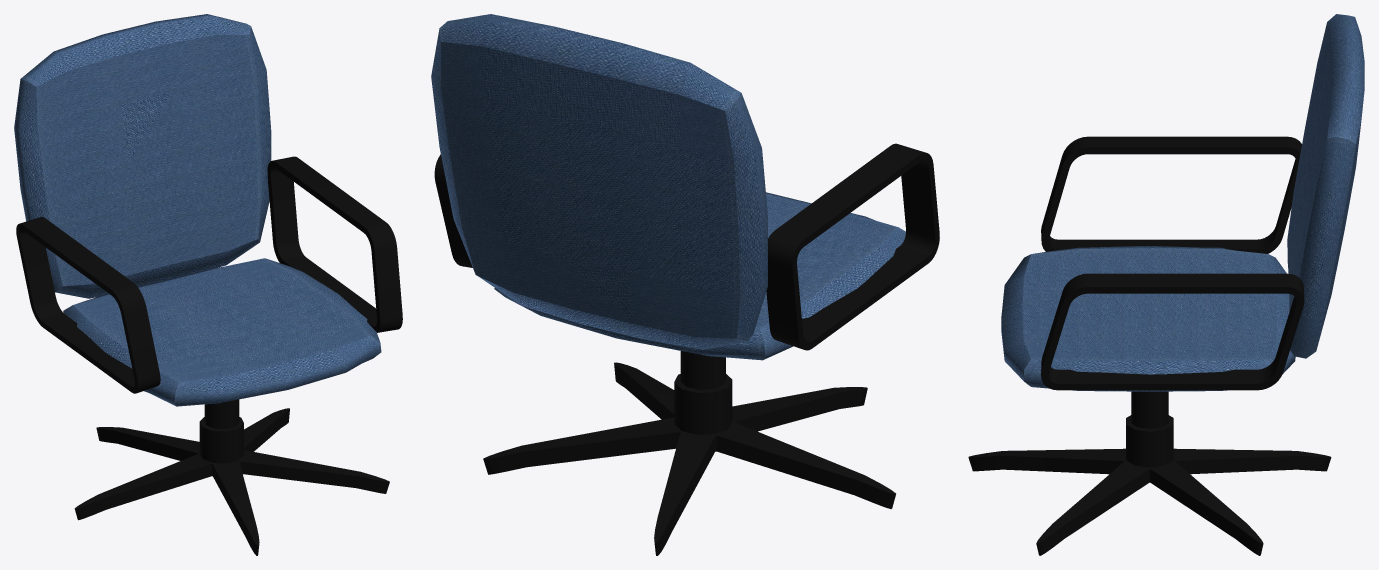
Rendered from Lawyer - Office chair(low poly).FBX.
The picture shows the model from 3 angles, left to right: view 1: azimuth 30°, elevation 25°; view 2: azimuth 150°, elevation 25°; view 3: azimuth 270°, elevation 25°; orthographic projection. The views are drawn at different scales.
Parts seen in each view (by area): view 1: Back, Seat, Bridge, Rectangle003, Rectangle004, Cylinder001, Cylinder002; view 2: Back, Bridge, Rectangle003, Seat, Cylinder001, Cylinder002, Rectangle004; view 3: Seat, Back, Bridge, Rectangle004, Rectangle003, Cylinder001, Cylinder002.
Boxes of the visible parts, x1,y1,x2,y2 form: Back: (14,14,271,298); Seat: (63,258,381,406); Bridge: (74,408,389,555); Rectangle003: (16,217,160,393); Rectangle004: (267,156,402,332); Cylinder001: (199,417,243,463); Cylinder002: (204,399,239,428); Back: (431,14,767,349); Bridge: (483,362,895,555); Rectangle003: (766,143,939,350); Seat: (494,192,905,360); Cylinder001: (674,374,732,434); Cylinder002: (680,351,725,389); Rectangle004: (434,154,472,267); Seat: (1001,246,1295,391); Back: (1287,14,1364,358); Bridge: (968,448,1331,555); Rectangle004: (1041,273,1304,390); Rectangle003: (1041,136,1301,253); Cylinder001: (1126,415,1173,467); Cylinder002: (1131,391,1168,428).
Size of the model in its own units: 47.82 by 63.3 by 51.47.
Materials: 3 (1 with a texture image).
